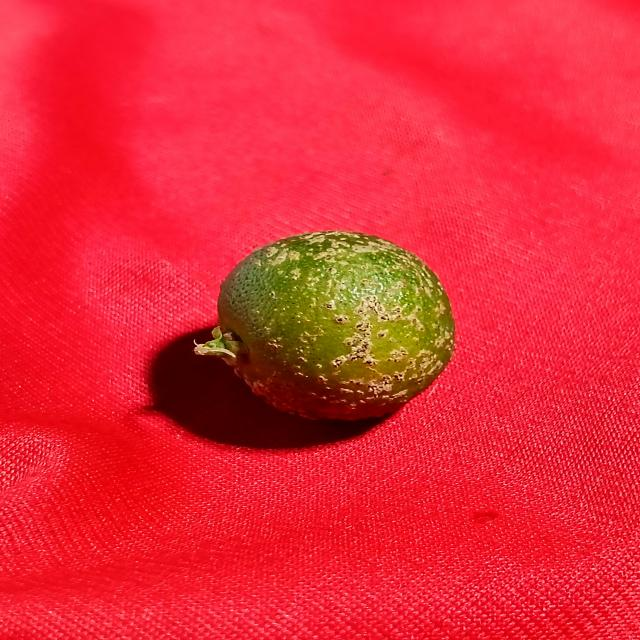scab: (215, 224, 450, 436)
